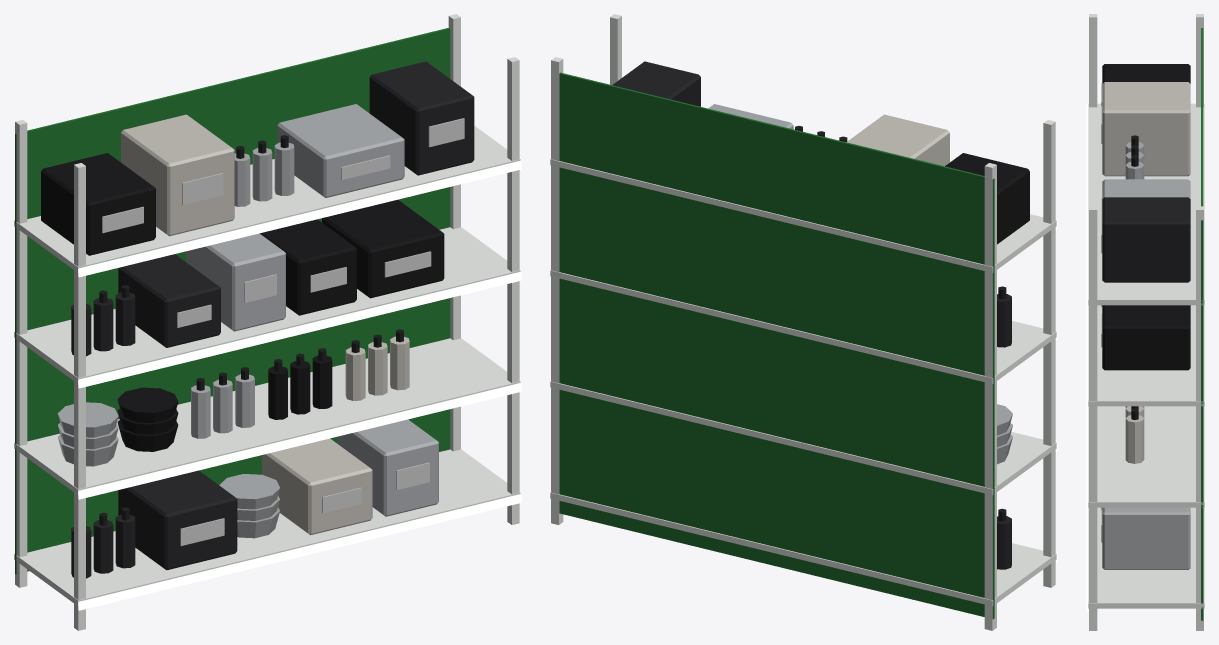
The model's file is grow_shelf_kit.glb.
3 renders of one model, left to right at view 1: azimuth 30°, elevation 25°; view 2: azimuth 150°, elevation 25°; view 3: azimuth 270°, elevation 25°, orthographic. The views are drawn at different scales.
Visible parts, largest first — view 1: grow_shelf_kit; view 2: grow_shelf_kit; view 3: grow_shelf_kit.
Part boxes in pixels (box(x1,y1,x2,y2)): grow_shelf_kit: box(14, 14, 521, 630); grow_shelf_kit: box(550, 14, 1057, 630); grow_shelf_kit: box(1086, 14, 1204, 630).
Size of the model in its own units: 2 by 2 by 0.509.
